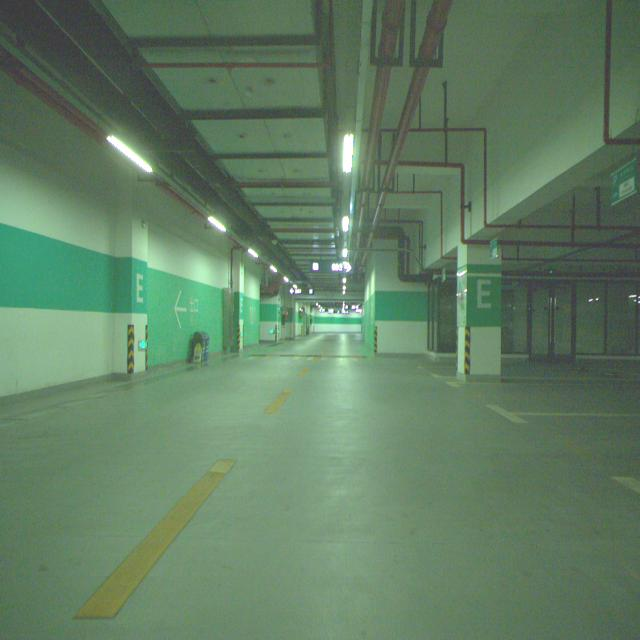pillar: (456, 244, 501, 380)
wall: (111, 205, 148, 373)
